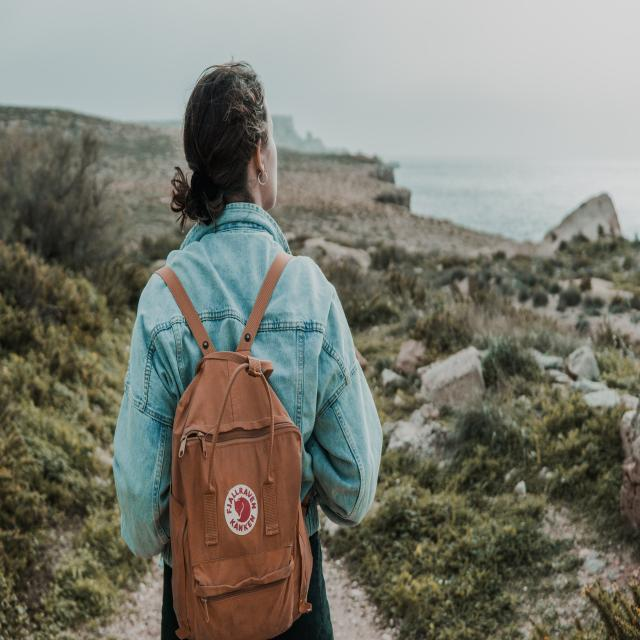backpack: (148, 253, 316, 640)
